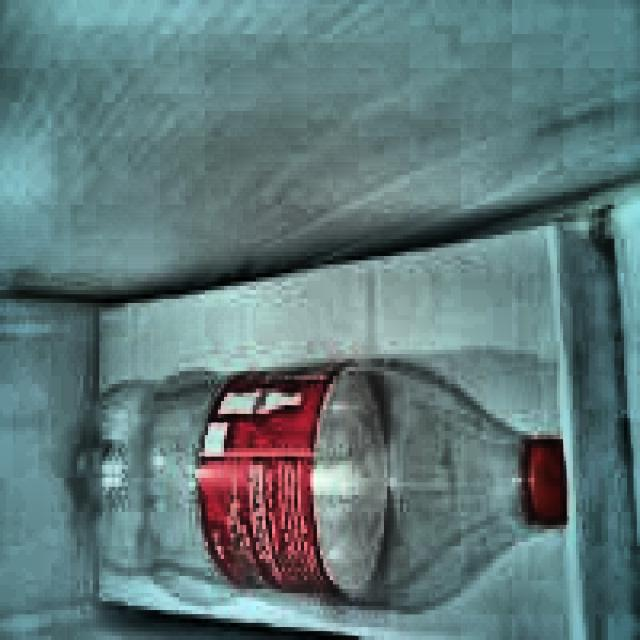plastic bottle: (74, 363, 565, 608)
